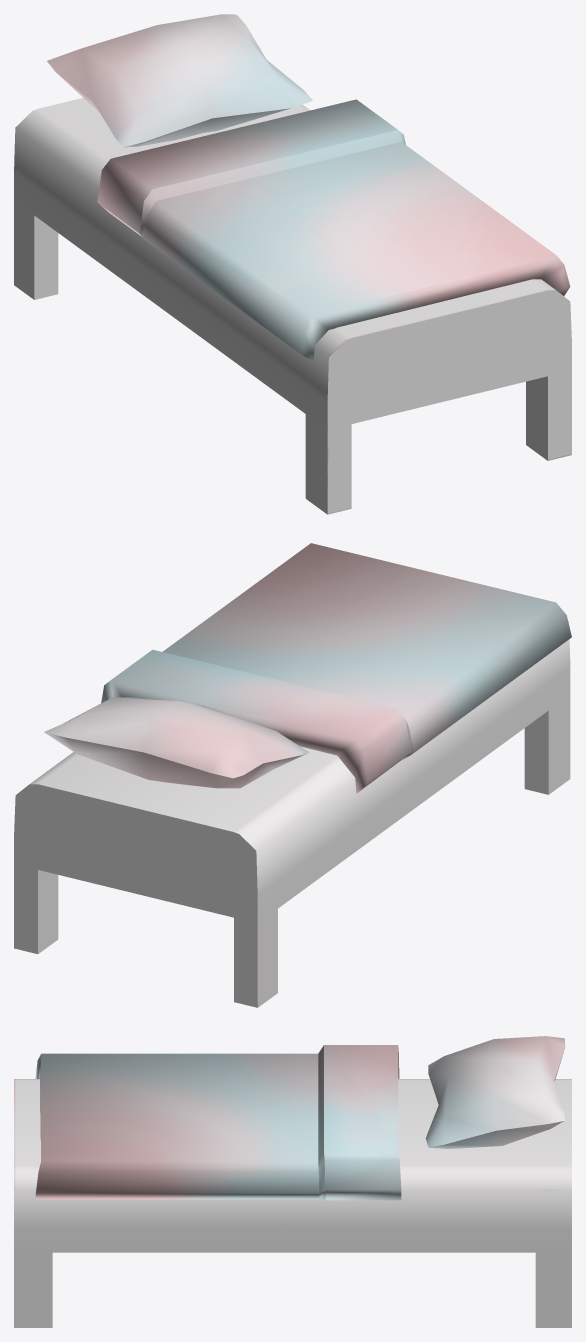
File: Bed.fbx
The picture shows the model from 3 angles, top to bottom: view 1: azimuth 30°, elevation 25°; view 2: azimuth 150°, elevation 25°; view 3: azimuth 270°, elevation 25°; orthographic projection. The views are drawn at different scales.
Parts seen in each view (by area): view 1: Plane, Cube; view 2: Plane, Cube; view 3: Plane, Cube.
Boxes of the visible parts, x1,y1,x2,y2 form: Plane: (47,14,570,361); Cube: (14,98,571,514); Plane: (44,543,571,793); Cube: (14,621,570,1007); Plane: (35,1036,565,1200); Cube: (14,1079,571,1327).
Bounding box in the file's own units: 98.94 × 85.74 × 200.
